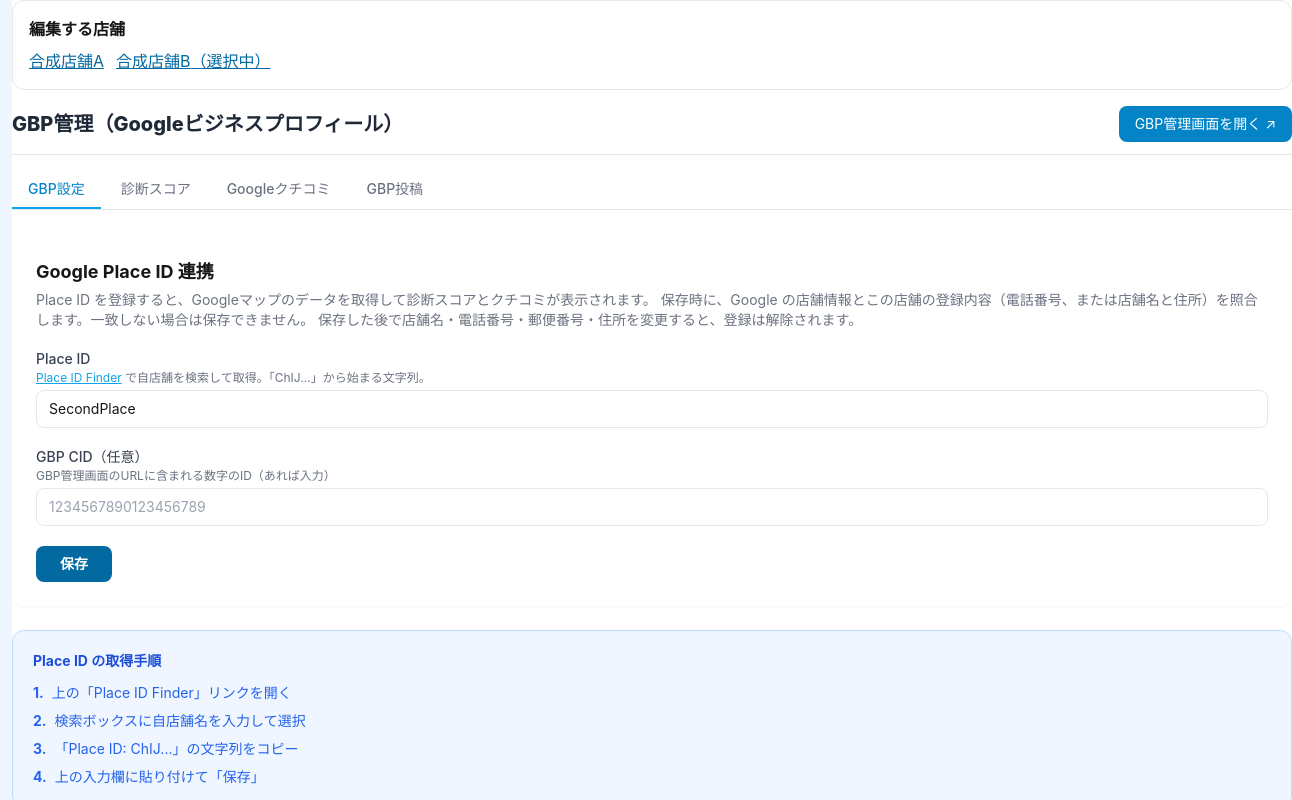
Scenario: GBP save failure without a reason keeps the generic message
Expected: the field showing "SecondPlace" is shown, x1=36 y1=390 x2=1268 y2=428
Click the button "保存" at (74, 564), box x1=36 y1=546 x2=112 y2=582
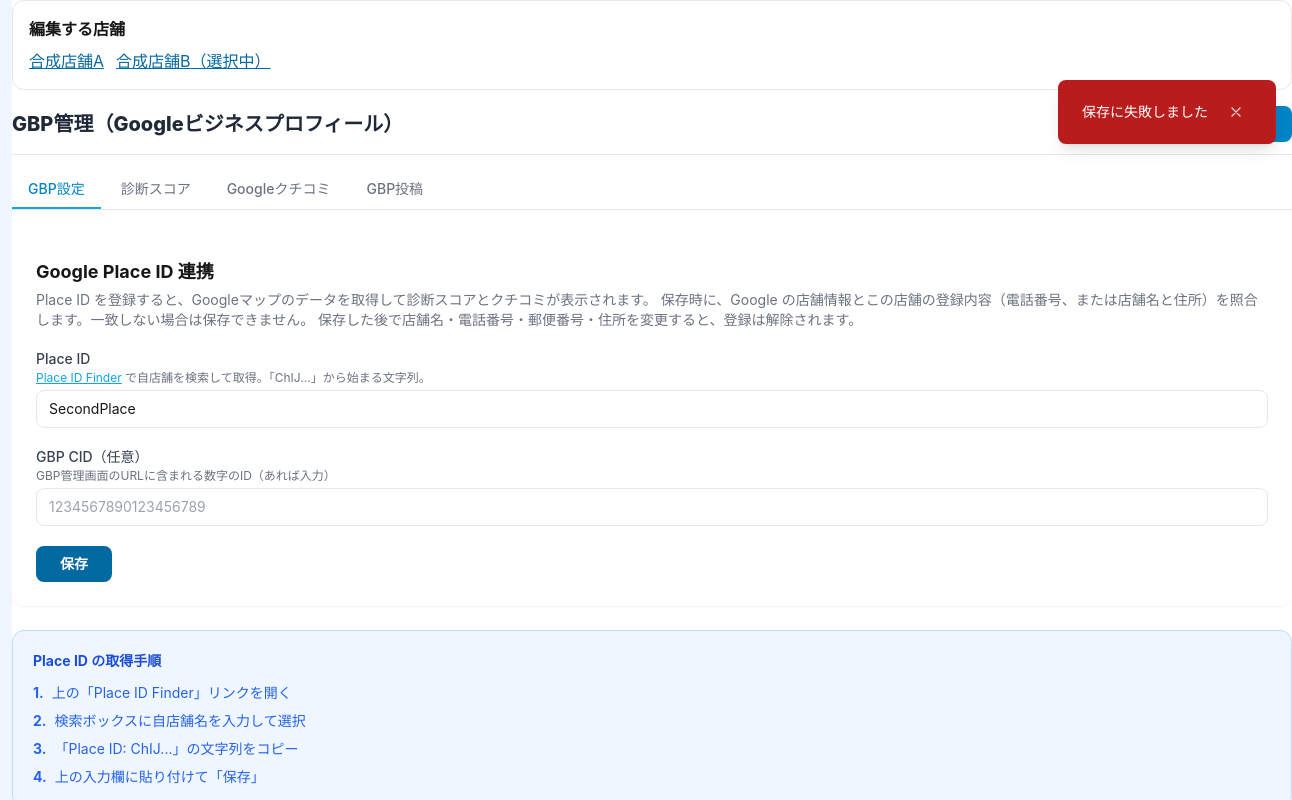
Now the text "保存に失敗しました" is shown, box x1=1082 y1=102 x2=1208 y2=122
